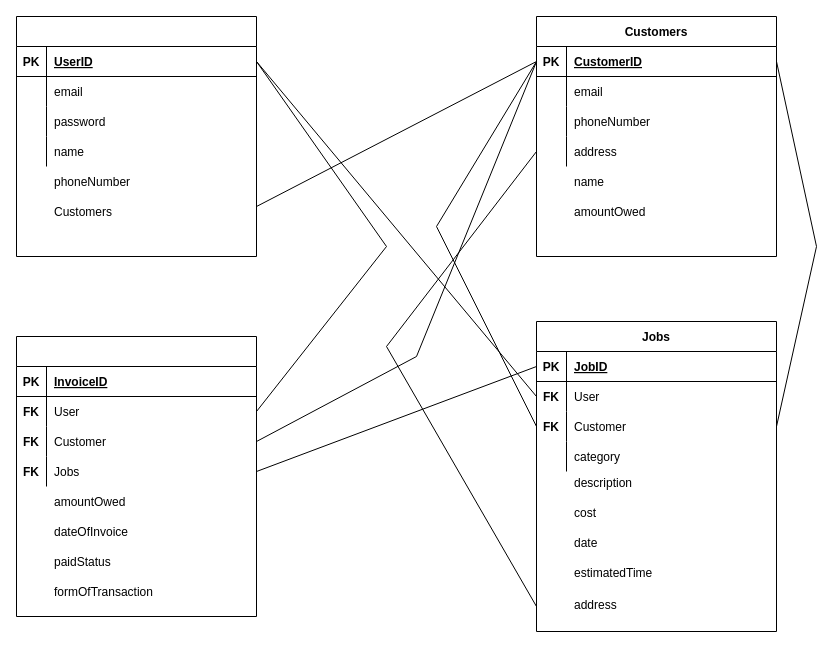
Image size: 833x648. Some labels were removed from this diagram. The box of each missing label's shape, as (x1, y1, x2, y2) in pixels:
Invoices: (16, 336, 256, 616)
Users: (16, 16, 256, 256)
